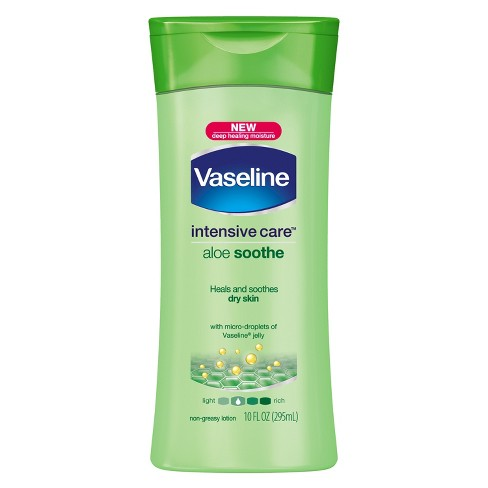Nonrec_Plastic: (117, 6, 365, 488)
